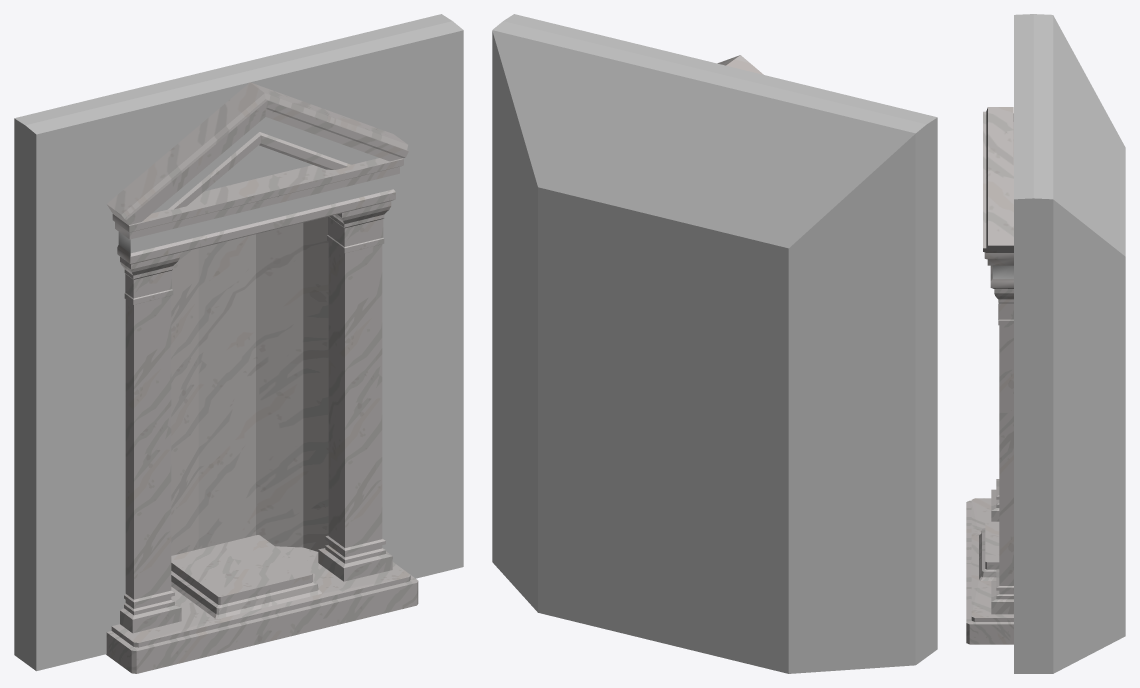
File: SM_Bld_Wall_Alcove_01.fbx
3 renders of one model, left to right at view 1: azimuth 30°, elevation 25°; view 2: azimuth 150°, elevation 25°; view 3: azimuth 270°, elevation 25°, orthographic. The views are drawn at different scales.
Visible parts, largest first — view 1: SM_Bld_Wall_Alcove_01; view 2: SM_Bld_Wall_Alcove_01; view 3: SM_Bld_Wall_Alcove_01.
Part boxes in pixels (x1,y1,x2,y2): SM_Bld_Wall_Alcove_01: [14, 14, 463, 673]; SM_Bld_Wall_Alcove_01: [492, 14, 937, 673]; SM_Bld_Wall_Alcove_01: [966, 14, 1125, 673].
Size of the model in its own units: 250 by 301 by 91.14.
